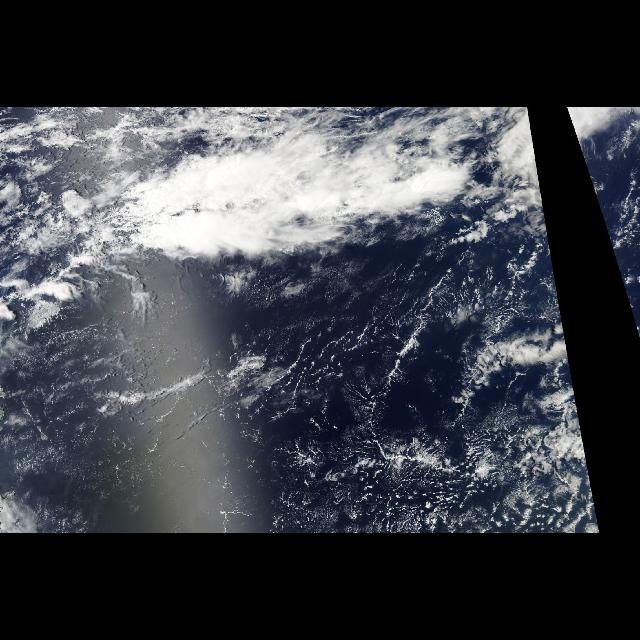Fish: (52, 131, 476, 277)
Gravel: (252, 271, 600, 534)
